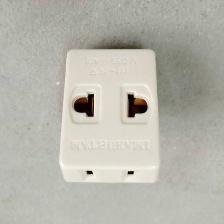three_eye_plug: (55, 40, 163, 189)
